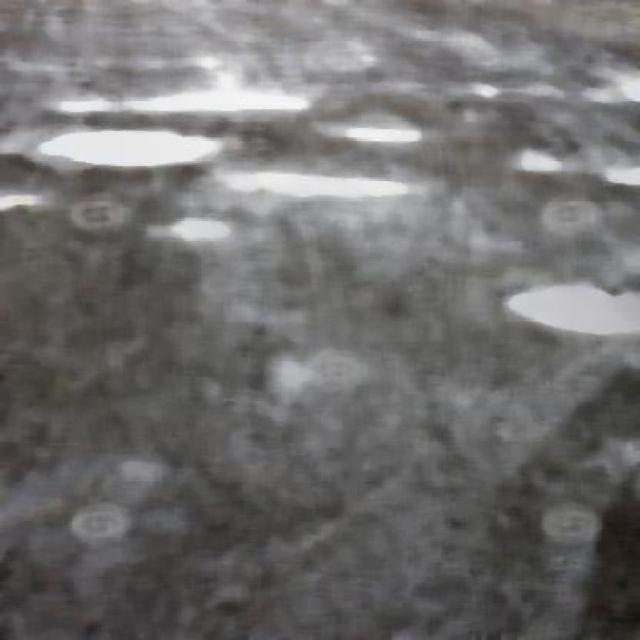Pothole: (215, 139, 407, 210), (474, 125, 638, 200), (47, 108, 213, 180), (298, 93, 419, 161), (535, 272, 639, 350)
